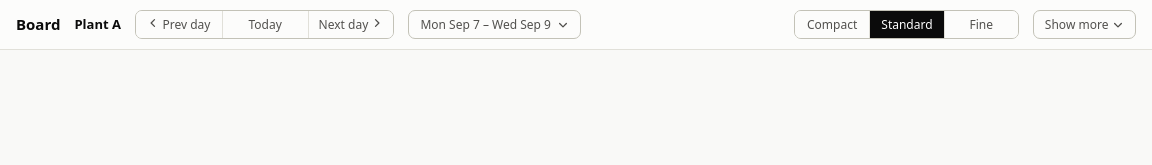
TB-1..TB-4: the band's labelled groups, cascaded from the three demo roles' rights › TB-3: a viewer gets no Week plan controls -- the GROUP itself is not rendered, only Key is
Click the button "Show more" at (1084, 25), box [1033,10,1136,39]
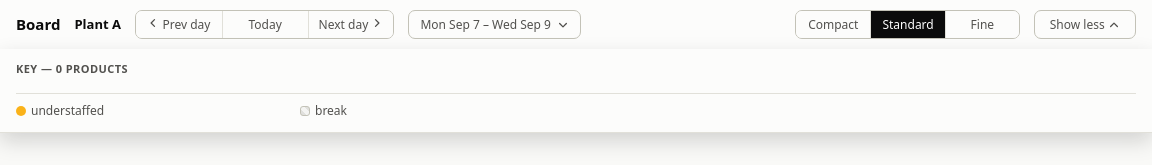
Expected: the heading "Key — 0 products" is shown, [16,61,128,76]
